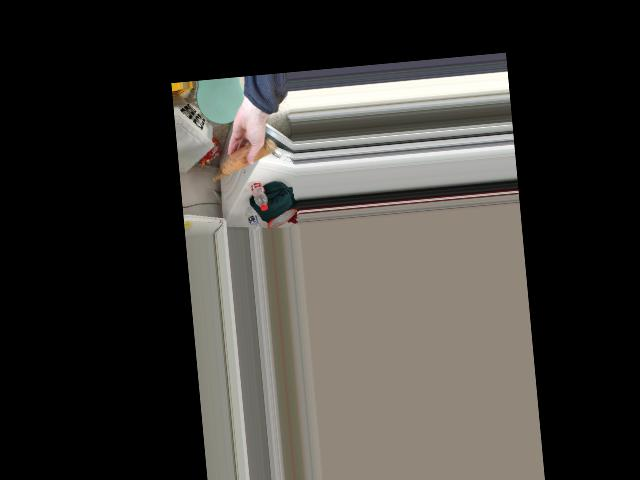sweet_potato: (225, 139, 274, 175)
